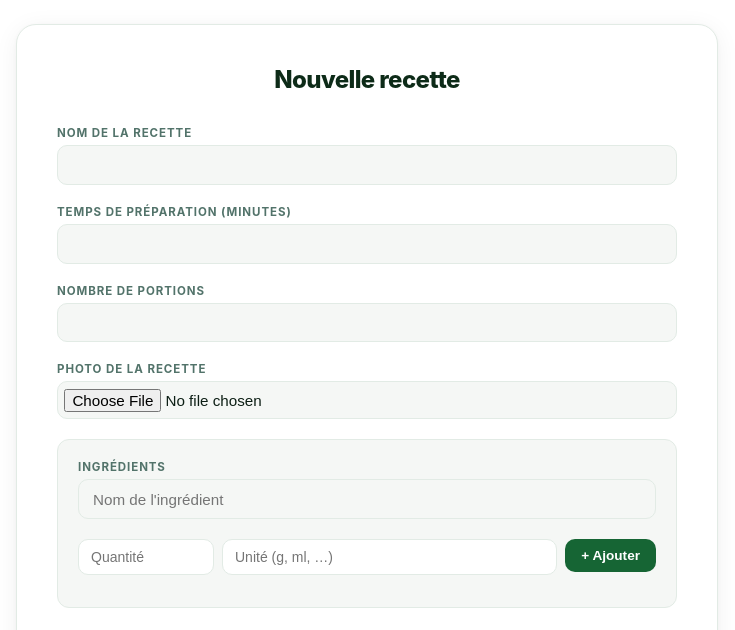
RecetteForm — mode création › validation — aucune étape affiche le message d'erreur
Type "Tarte" into the field labelled "Nom de la recette".
click(367, 165); type("Tarte")  # box [57,145,677,185]
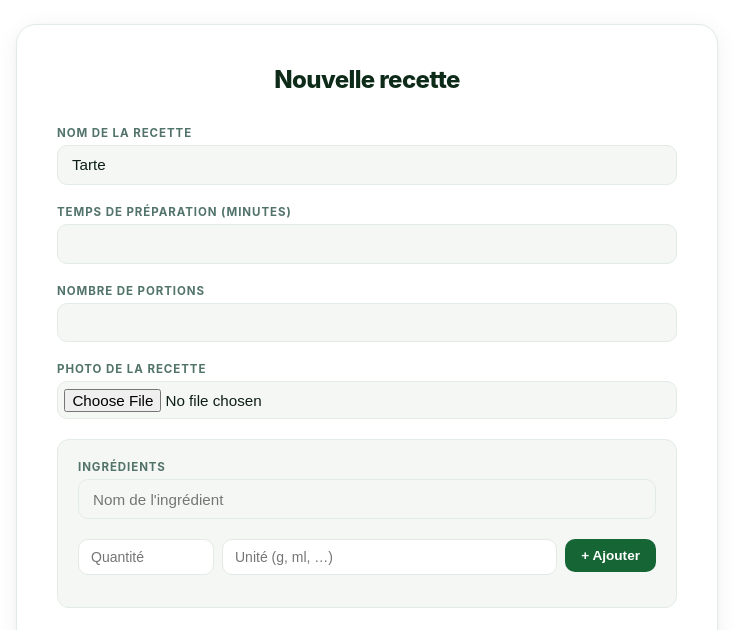
Type "Farine" into the field with placeholder "Nom de l'ingrédient".
click(367, 499); type("Farine")  # box [78,479,656,519]
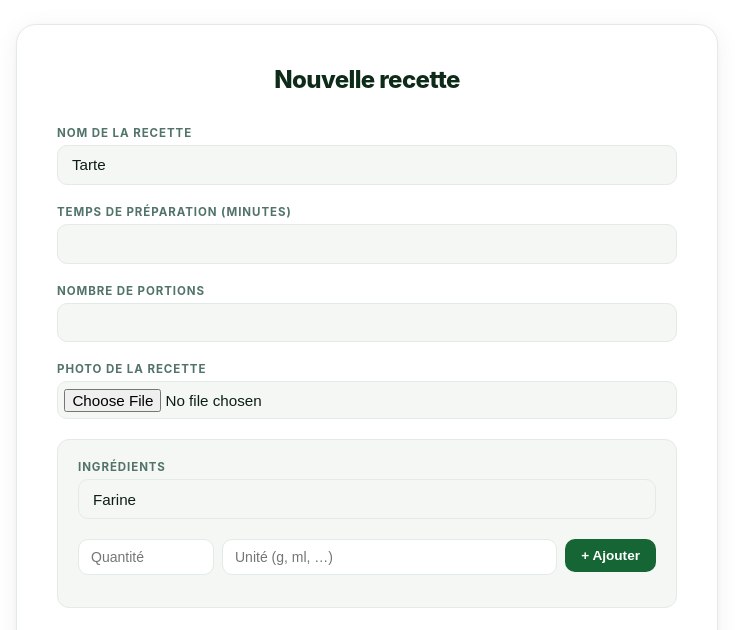
Type "200" into the number field with placeholder "Quantité".
click(146, 557); type("200")  # box [78,539,214,575]
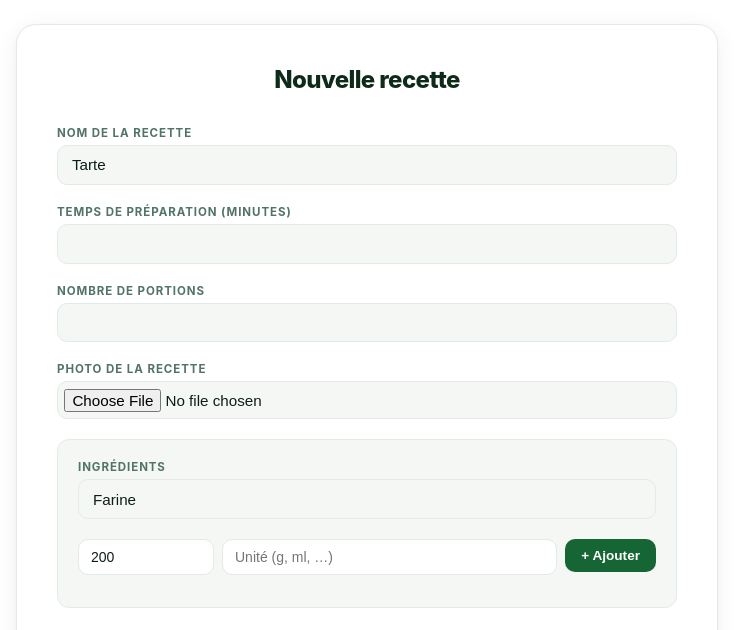
Type "g" into the field with placeholder "Unité (g, ml, …)".
click(390, 557); type("g")  # box [222,539,557,575]
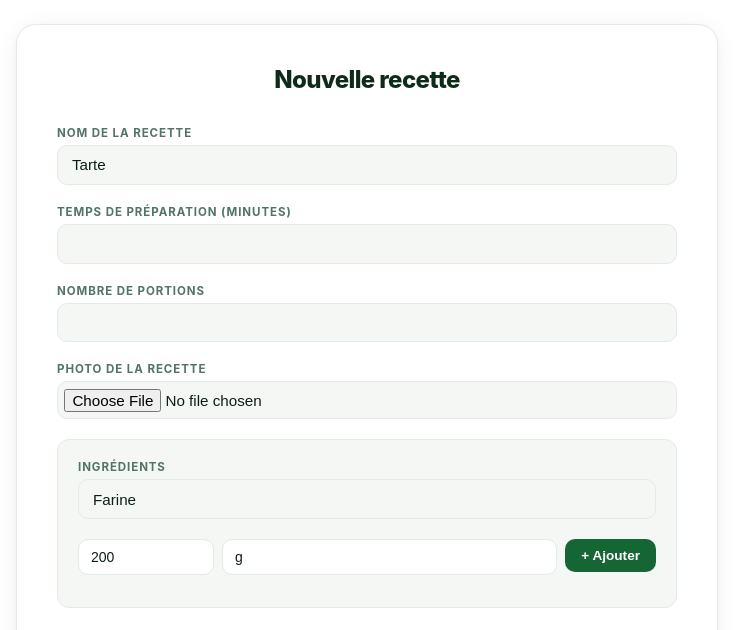
Click the 1st button "+ Ajouter".
click(611, 556)  # box [565,539,656,572]
(page scrolled)
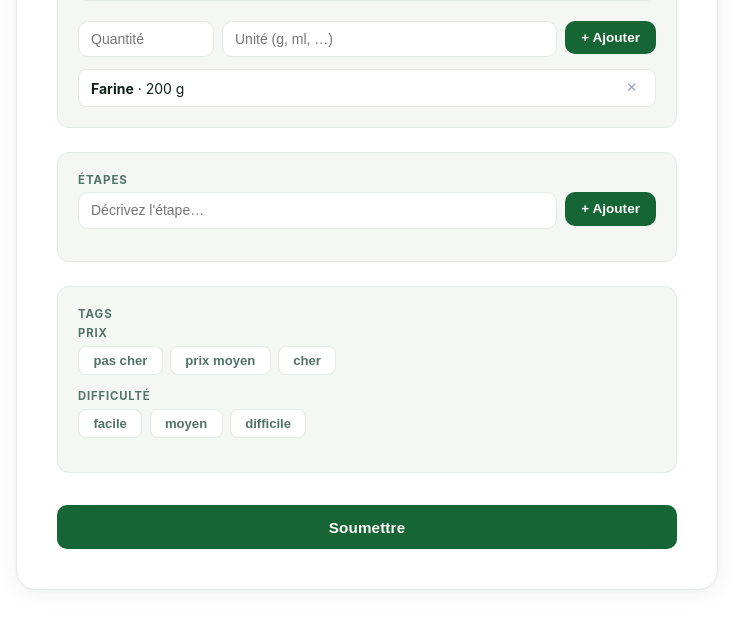
Click the button "Soumettre".
click(367, 527)  # box [57,505,677,549]
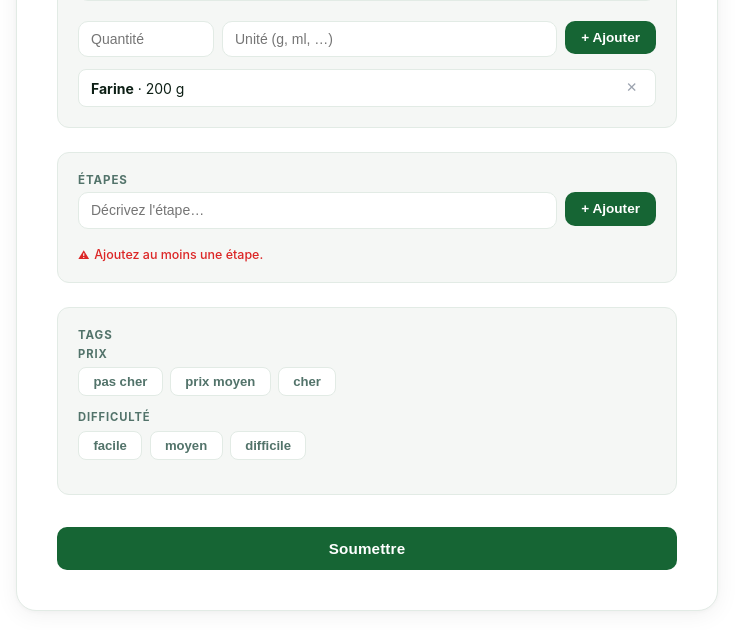
Check: the text "Ajoutez au moins une étape." is shown, box [94,247,263,262]
